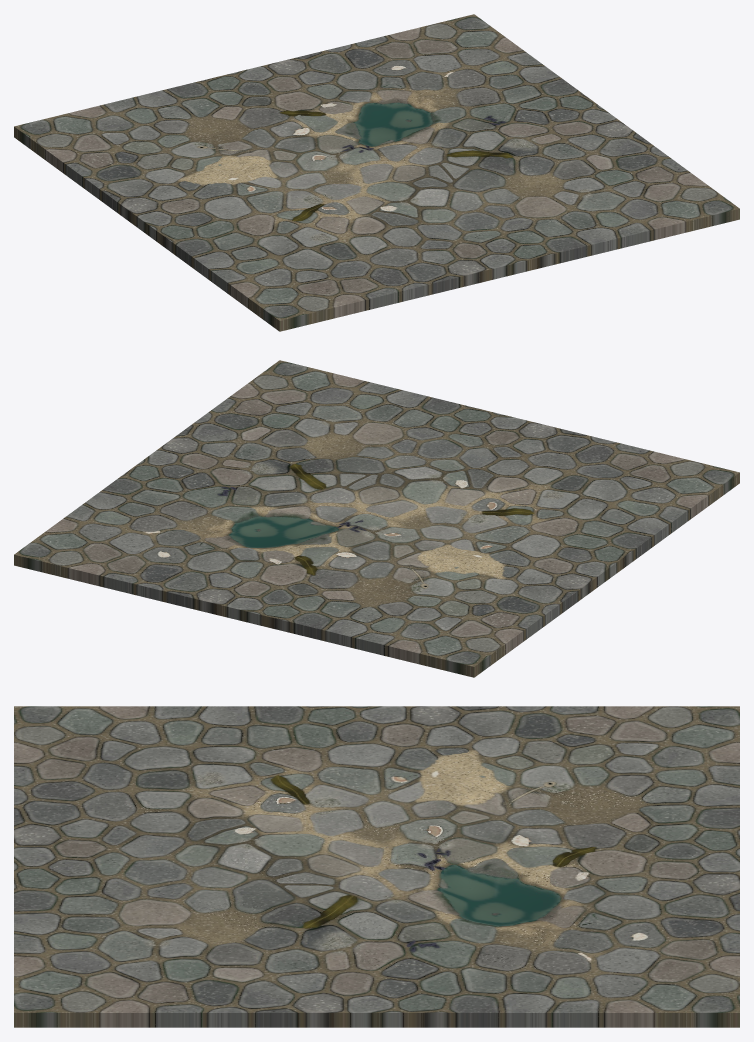
Rendered from drowned_floor_b.glb.
3 renders of one model, top to bottom at view 1: azimuth 30°, elevation 25°; view 2: azimuth 150°, elevation 25°; view 3: azimuth 270°, elevation 25°, orthographic. The views are drawn at different scales.
Visible parts, largest first — view 1: drowned_floor_b; view 2: drowned_floor_b; view 3: drowned_floor_b.
Boxes of the visible parts, x1,y1,x2,y2 form: drowned_floor_b: (14,14,739,331); drowned_floor_b: (14,360,739,677); drowned_floor_b: (14,706,739,1027).
Bounding box in the file's own units: 4 × 0.135 × 4.
1 material, 1 textured.
